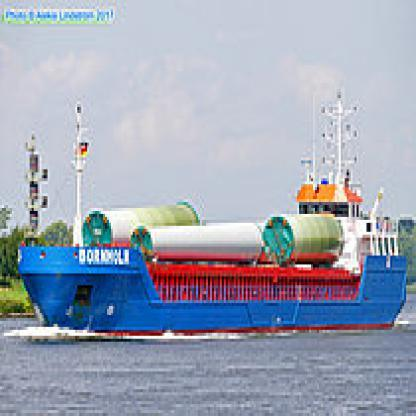Container Ship: (15, 86, 408, 336)
